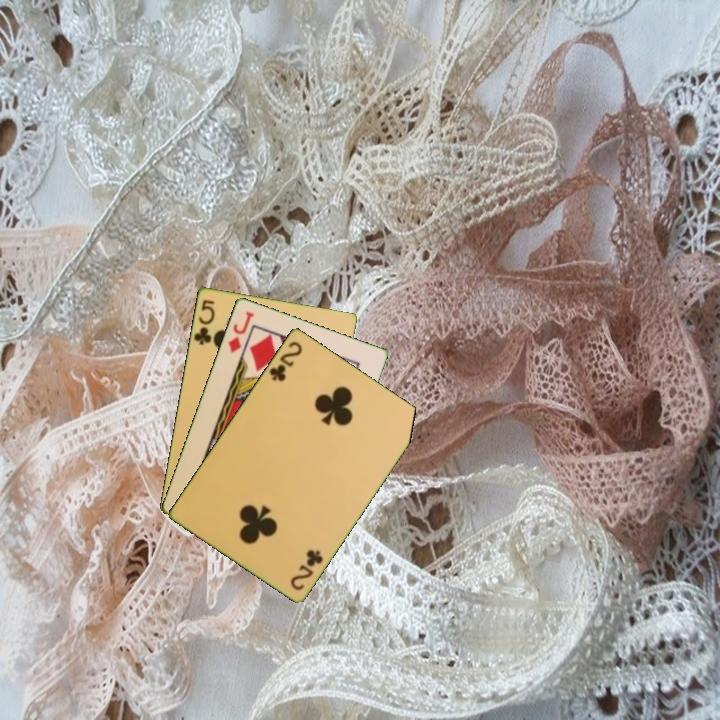2c: (265, 337, 305, 384), (287, 545, 326, 593)
5c: (190, 296, 217, 348)
Jd: (224, 307, 257, 356)
